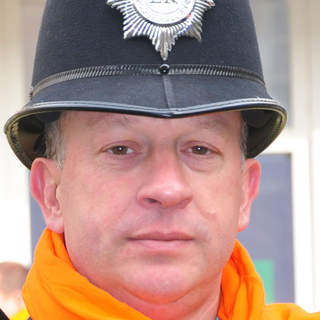eye: (95, 132, 155, 167), (175, 134, 232, 167)
